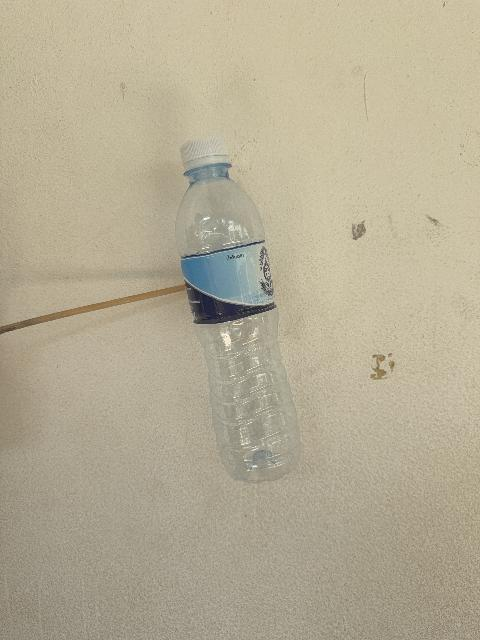bottle: (176, 137, 300, 482)
